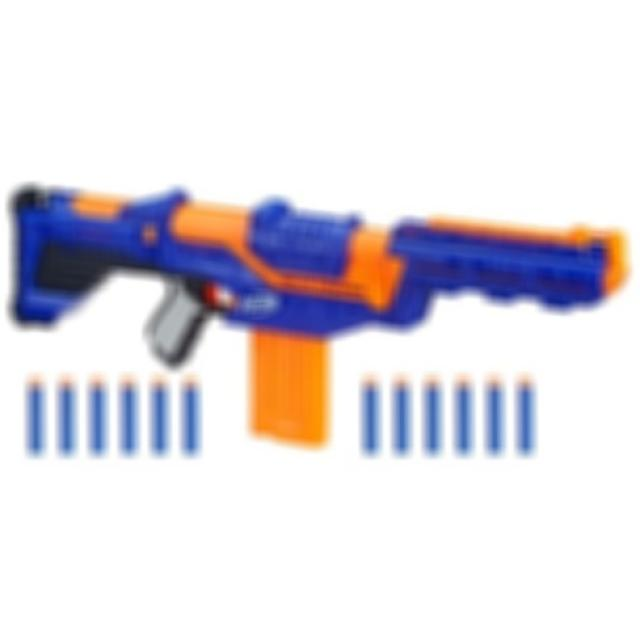Nerf gun: (5, 177, 628, 450)
